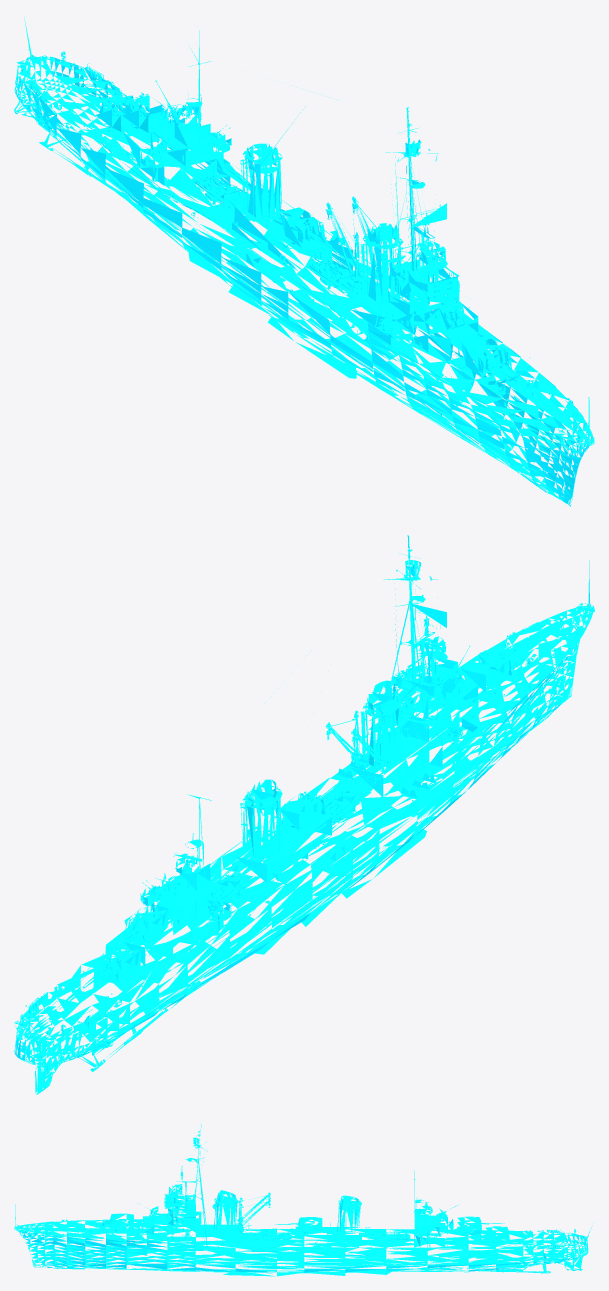
The picture shows the model from 3 angles, top to bottom: view 1: azimuth 30°, elevation 25°; view 2: azimuth 150°, elevation 25°; view 3: azimuth 270°, elevation 25°; orthographic projection. The views are drawn at different scales.
Bounding box in the file's own units: 0.832 × 2.37 × 8.39.
